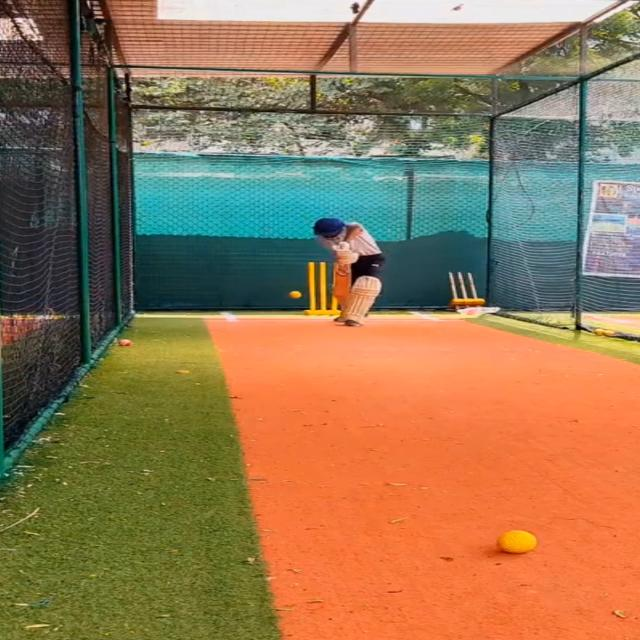ball: (285, 289, 306, 300)
stump: (302, 261, 340, 318)
